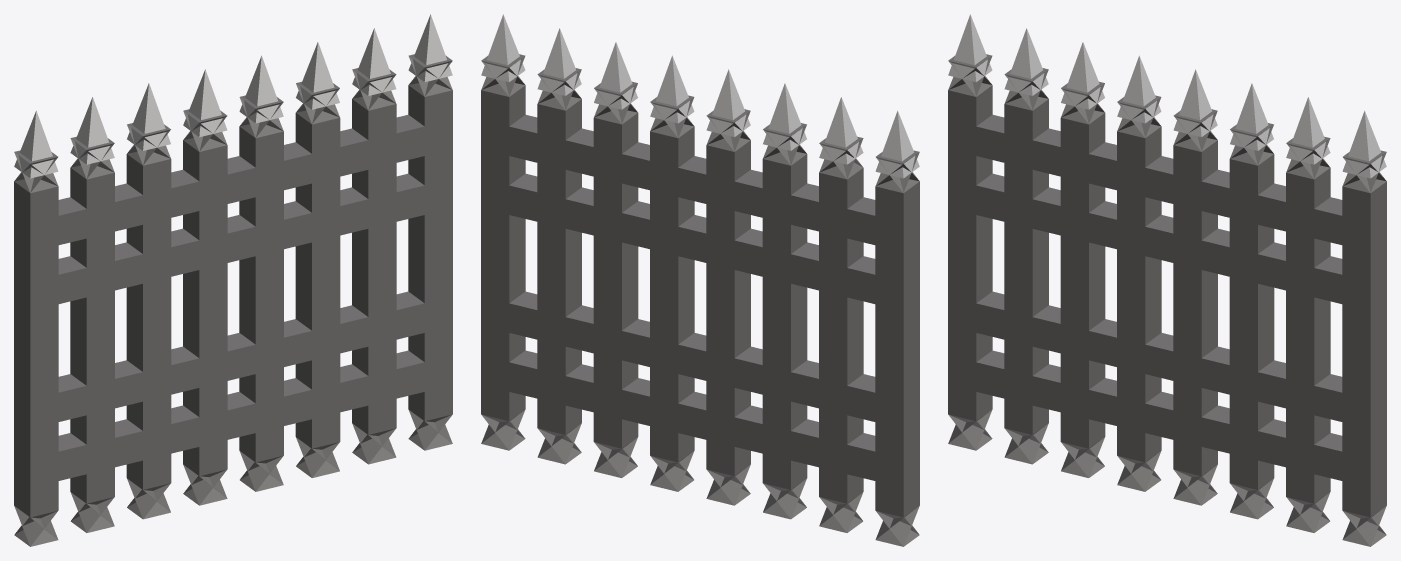
Rendered from Valla.fbx.
The picture shows the model from 3 angles, left to right: view 1: azimuth 30°, elevation 25°; view 2: azimuth 150°, elevation 25°; view 3: azimuth 330°, elevation 25°; orthographic projection.
Parts seen in each view (by area): view 1: Valla, beveled_cuboid, beveled_cuboid_6, beveled_cuboid_4, beveled_cuboid_5, beveled_cuboid_7, beveled_cuboid_1, beveled_cuboid_2, beveled_cuboid_3, pyramid_3, pyramid_1, pyramid_6 (+5 smaller); view 2: Valla, beveled_cuboid, beveled_cuboid_6, beveled_cuboid_7, beveled_cuboid_4, beveled_cuboid_3, beveled_cuboid_1, beveled_cuboid_2, beveled_cuboid_5, pyramid_3, pyramid_1, pyramid_6 (+5 smaller); view 3: Valla, beveled_cuboid_7, beveled_cuboid_4, beveled_cuboid_3, beveled_cuboid_5, beveled_cuboid_1, beveled_cuboid, beveled_cuboid_6, beveled_cuboid_2, pyramid_4, pyramid_1, pyramid_6 (+5 smaller).
Part boxes in pixels (<box>): Valla: <box>14,114,452,487</box>; beveled_cuboid: <box>14,150,58,546</box>; beveled_cuboid_6: <box>352,68,396,464</box>; beveled_cuboid_4: <box>239,95,283,491</box>; beveled_cuboid_5: <box>295,81,340,477</box>; beveled_cuboid_7: <box>408,54,452,450</box>; beveled_cuboid_1: <box>70,136,114,532</box>; beveled_cuboid_2: <box>126,123,171,519</box>; beveled_cuboid_3: <box>183,109,227,505</box>; pyramid_3: <box>239,55,283,123</box>; pyramid_1: <box>352,28,396,95</box>; pyramid_6: <box>70,97,114,164</box>; Valla: <box>481,114,919,487</box>; beveled_cuboid: <box>875,150,919,546</box>; beveled_cuboid_6: <box>537,68,581,464</box>; beveled_cuboid_7: <box>481,54,525,450</box>; beveled_cuboid_4: <box>650,95,694,491</box>; beveled_cuboid_3: <box>706,109,750,505</box>; beveled_cuboid_1: <box>819,136,863,532</box>; beveled_cuboid_2: <box>762,123,807,519</box>; beveled_cuboid_5: <box>593,81,638,477</box>; pyramid_3: <box>650,55,694,123</box>; pyramid_1: <box>537,28,581,95</box>; pyramid_6: <box>819,97,863,164</box>; Valla: <box>948,114,1386,487</box>; beveled_cuboid_7: <box>1342,150,1386,546</box>; beveled_cuboid_4: <box>1173,109,1217,505</box>; beveled_cuboid_3: <box>1117,95,1161,491</box>; beveled_cuboid_5: <box>1229,123,1274,519</box>; beveled_cuboid_1: <box>1004,68,1048,464</box>; beveled_cuboid: <box>948,54,992,450</box>; beveled_cuboid_6: <box>1286,136,1330,532</box>; beveled_cuboid_2: <box>1060,81,1105,477</box>; pyramid_4: <box>1117,55,1161,123</box>; pyramid_1: <box>1286,97,1330,164</box>; pyramid_6: <box>1004,28,1048,95</box>.
Bounding box in the file's own units: 93.75 × 90.62 × 6.25.
3 materials, 3 textured.
